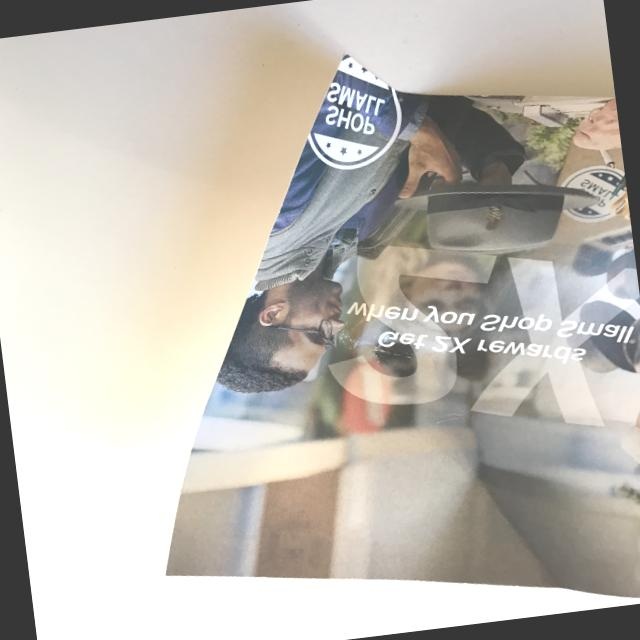Paper: (94, 5, 640, 640)
